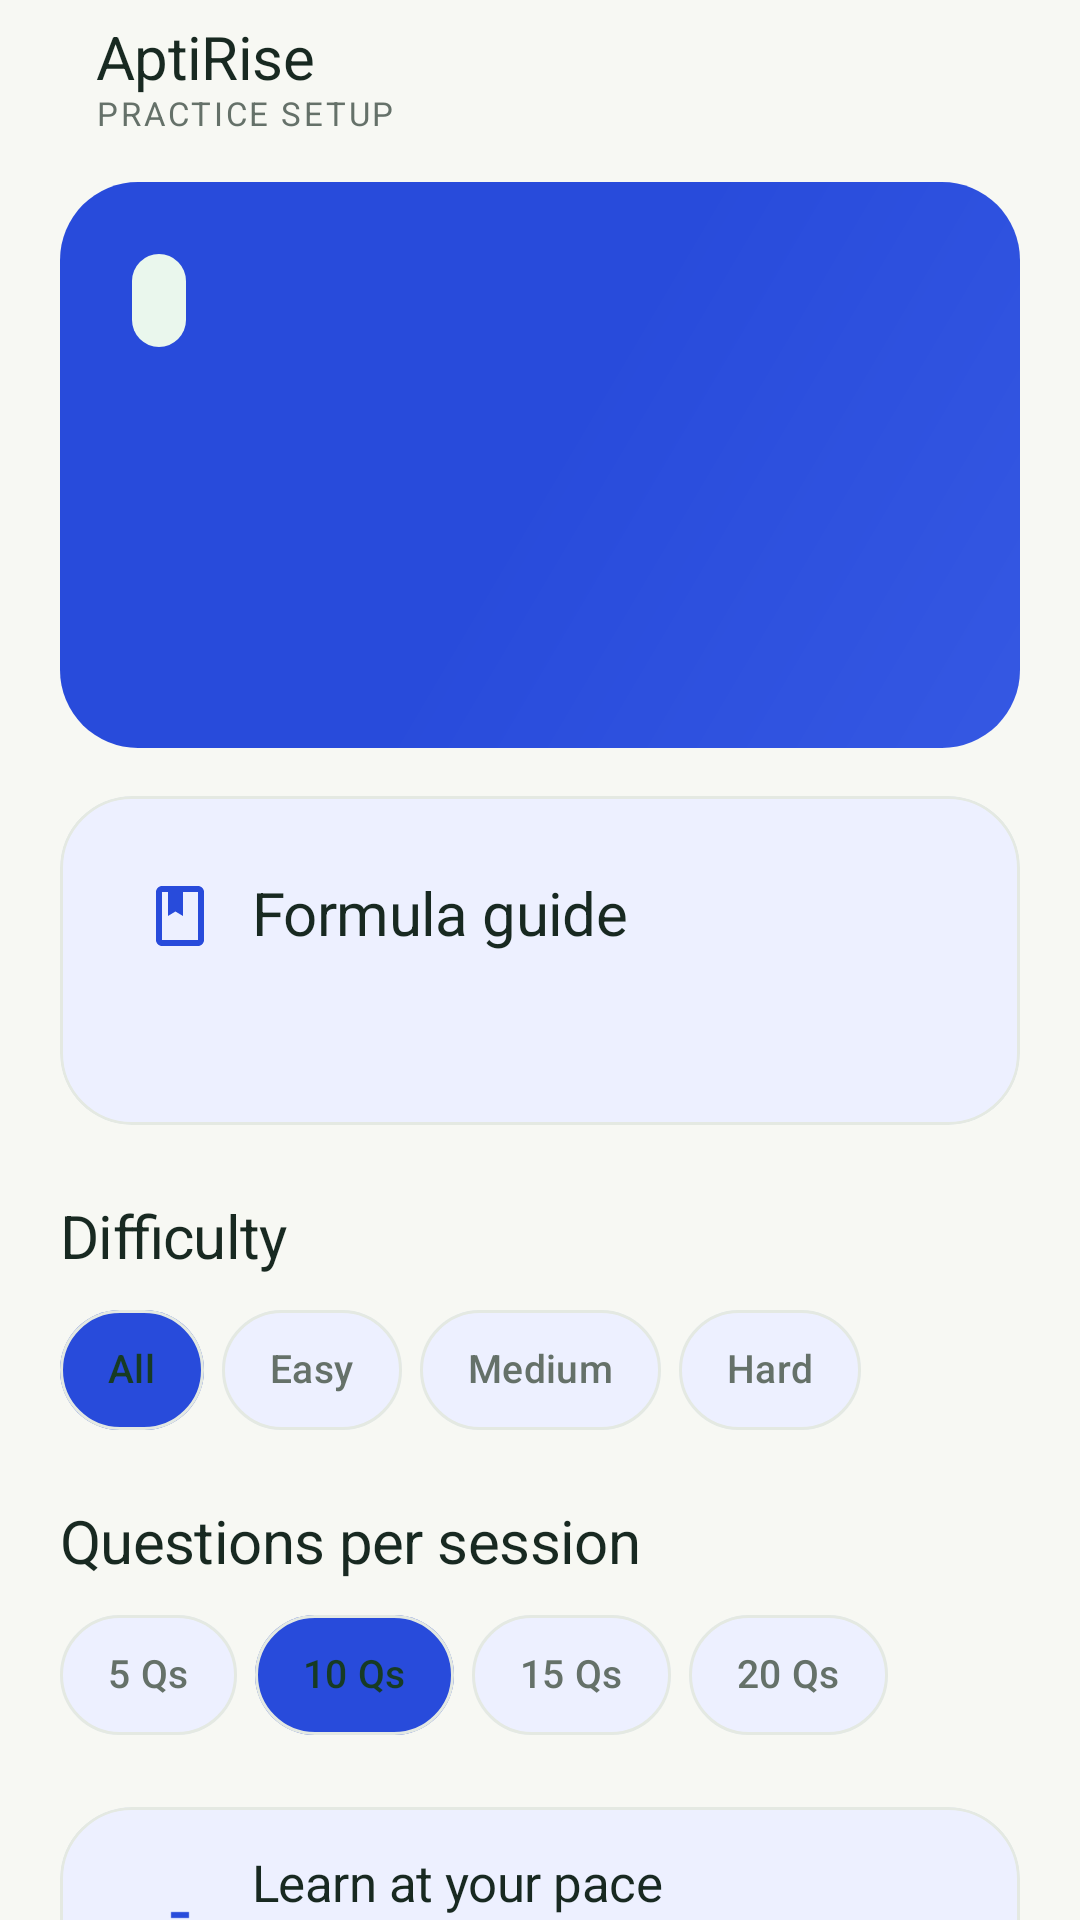

Point at icon controls on the screen. Image size 1080 x 1920, points as (x=x, y=y).
book: (x=180, y=916)
